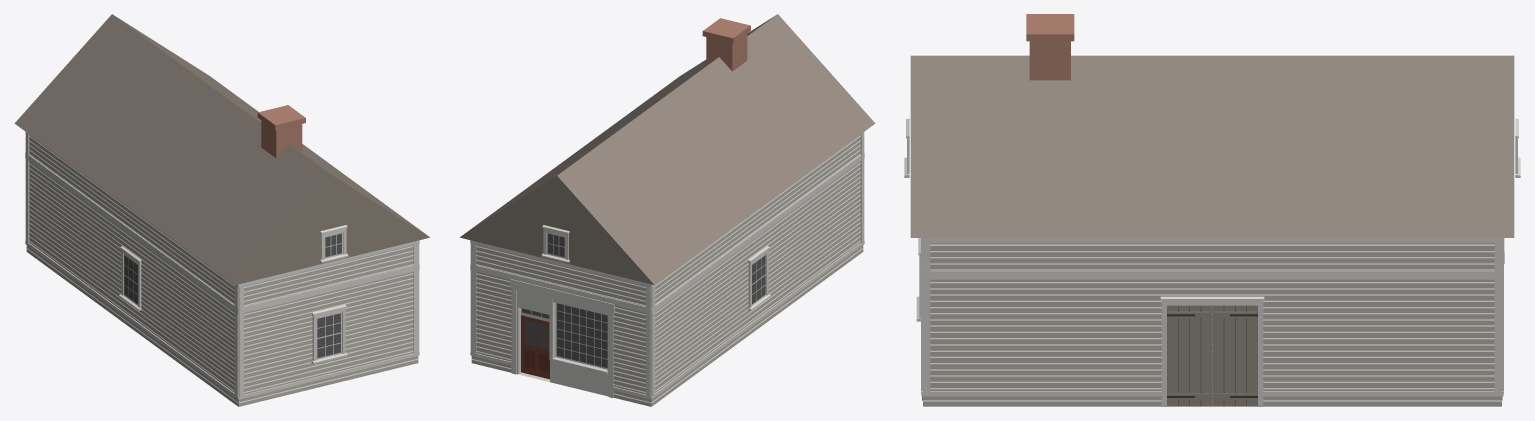
File: recon_1835_core_c2_005__inferred_1835.glb
3 renders of one model, left to right at view 1: azimuth 30°, elevation 25°; view 2: azimuth 150°, elevation 25°; view 3: azimuth 270°, elevation 25°, orthographic. The views are drawn at different scales.
Parts seen in each view (by area): view 1: recon_1835_core_c2_005__inferred_1835; view 2: recon_1835_core_c2_005__inferred_1835; view 3: recon_1835_core_c2_005__inferred_1835.
Part boxes in pixels (<box>): recon_1835_core_c2_005__inferred_1835: <box>14,14,429,406</box>; recon_1835_core_c2_005__inferred_1835: <box>460,14,875,406</box>; recon_1835_core_c2_005__inferred_1835: <box>904,14,1520,406</box>.
Bounding box in the file's own units: 6.27 × 7.24 × 12.54.
